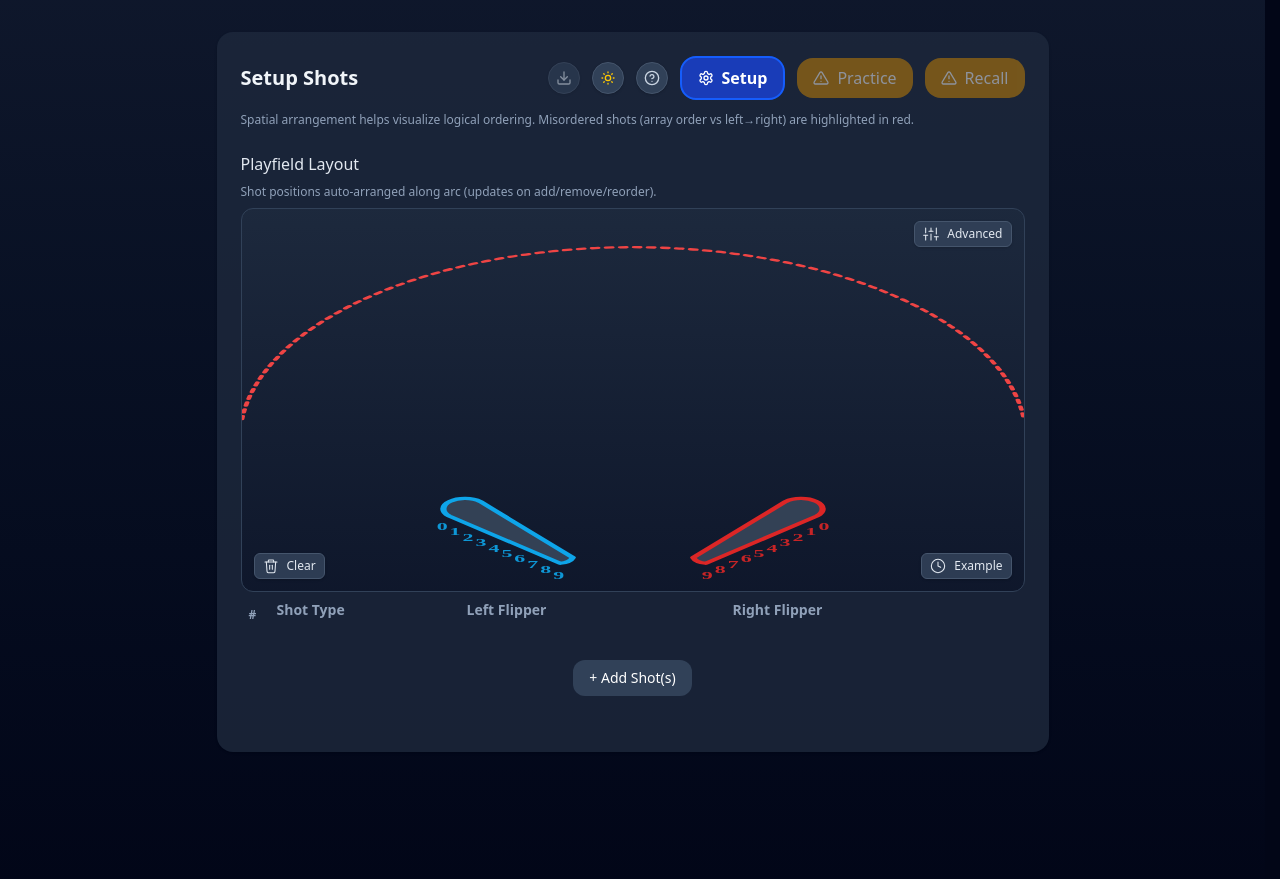
Test: App - Comprehensive Integration Tests › should clear all shots when clear button is clicked
Expected: the heading "Setup Shots" is shown, 240,64 -> 358,92
Note: Load example shots (two-step confirmation)
Click the button with aria-label "load example shots".
click(966, 566)  # box 921,553 -> 1012,579
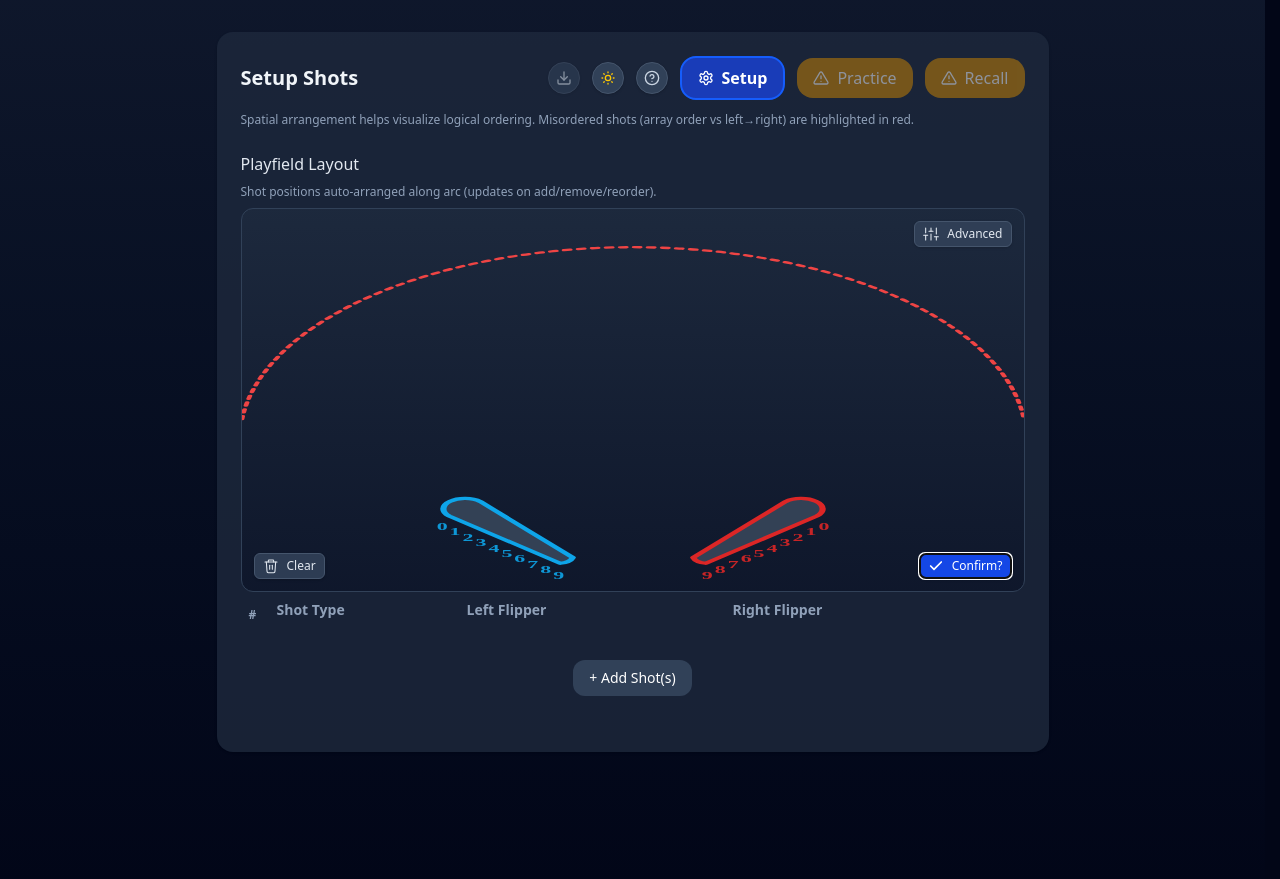
Click the button with aria-label "confirm load example shots".
click(965, 566)  # box 919,553 -> 1012,579
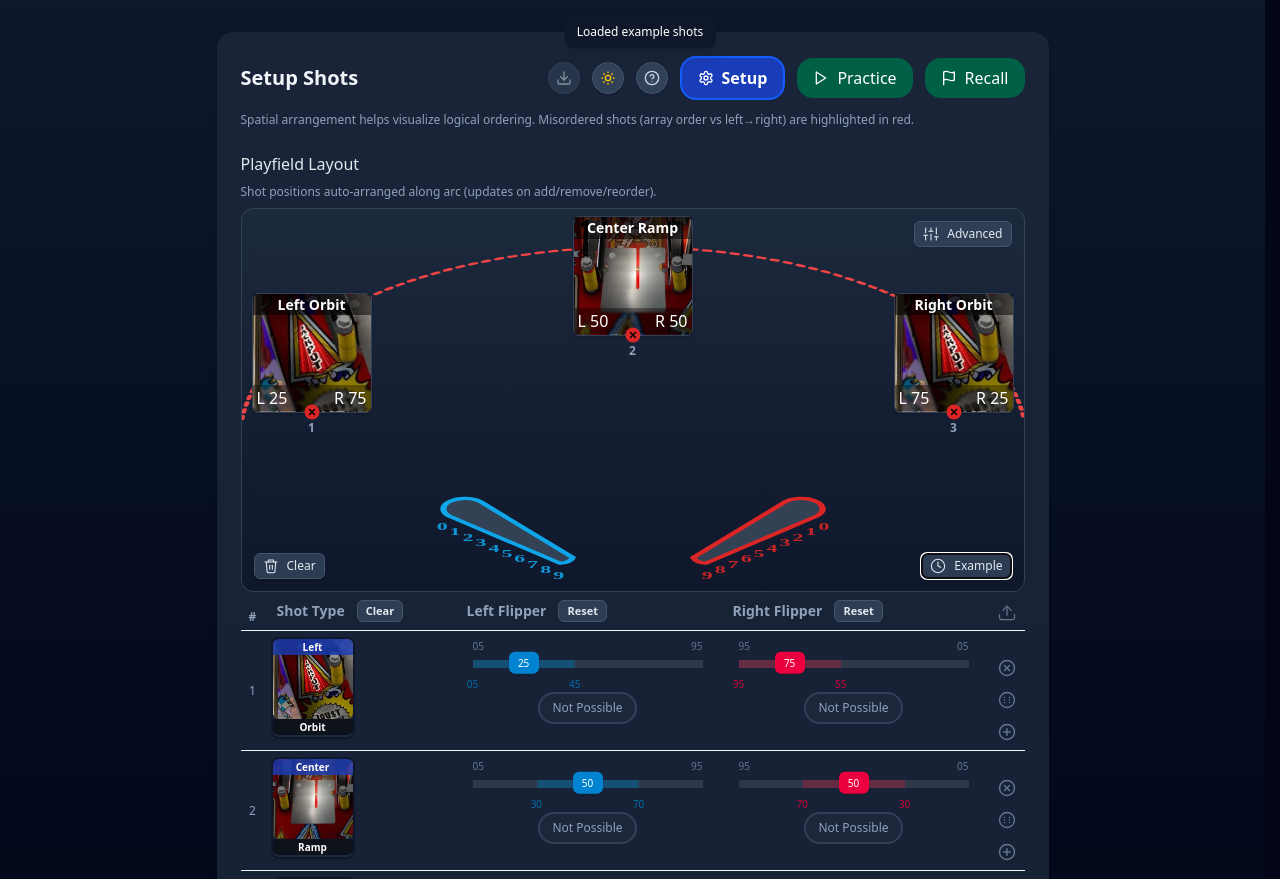
Note: Click clear button
Click the button with aria-label "clear all shots".
click(289, 566)  # box 254,553 -> 325,579
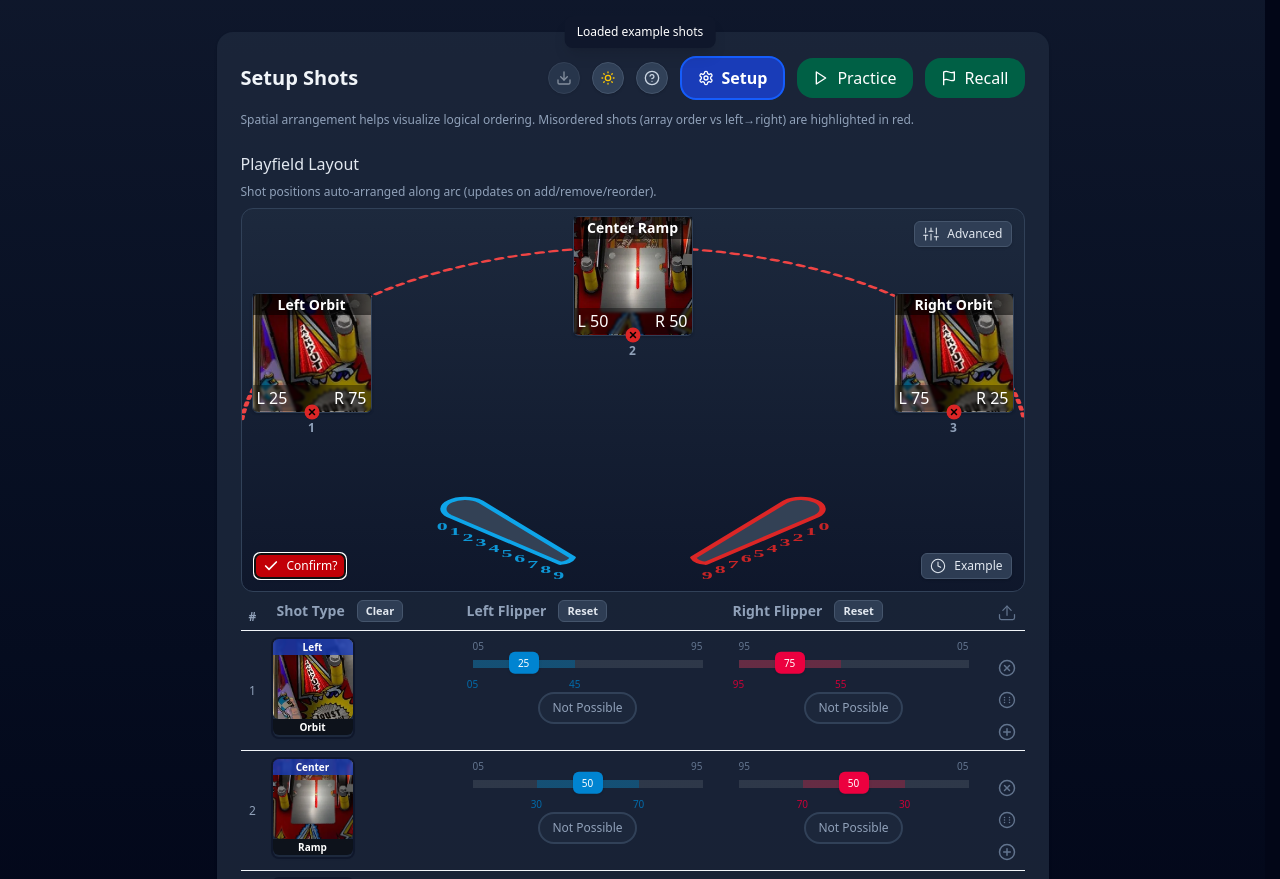
Click the button with aria-label "confirm clear all shots".
click(300, 566)  # box 254,553 -> 346,579
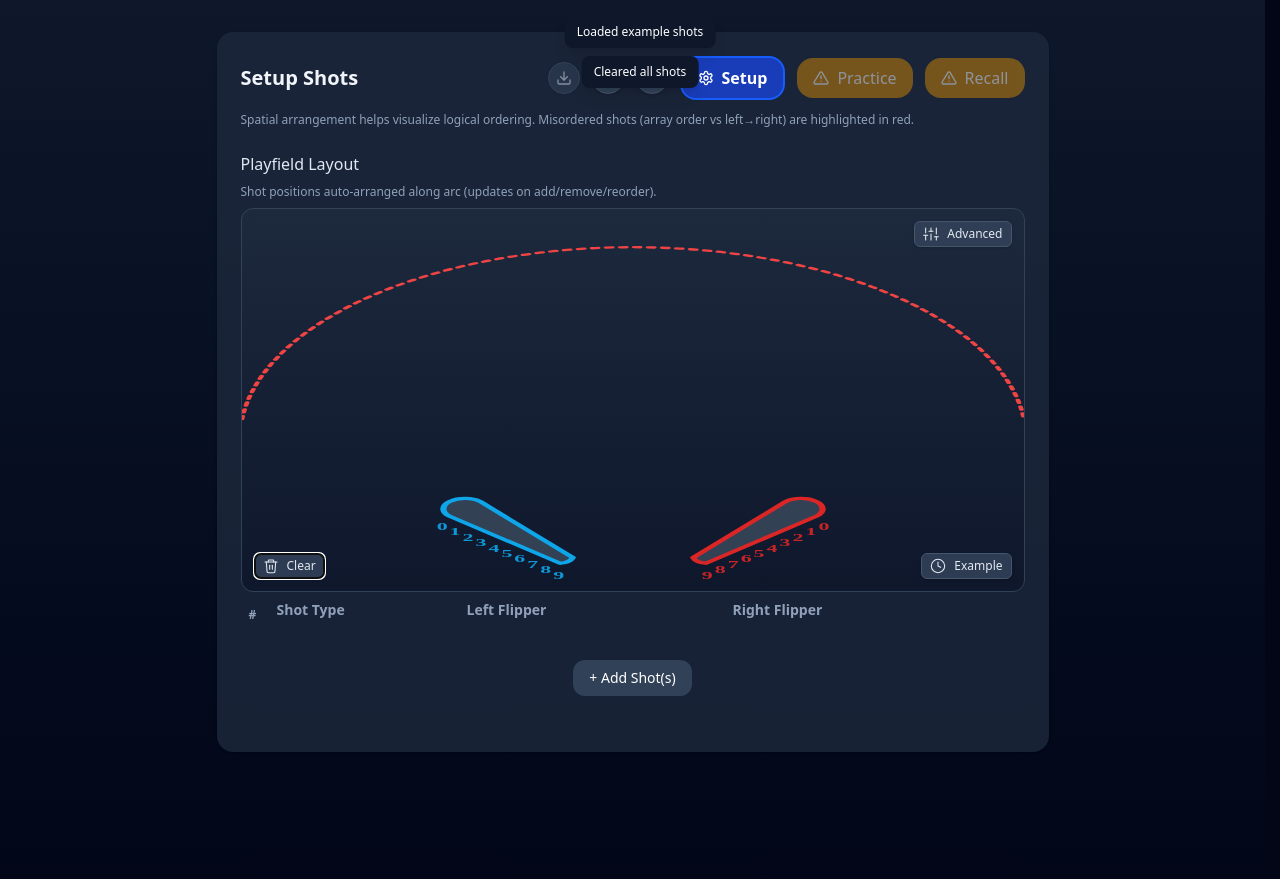
Now the button "+ Add Shot(s)" is shown, box 573,660 -> 692,696
